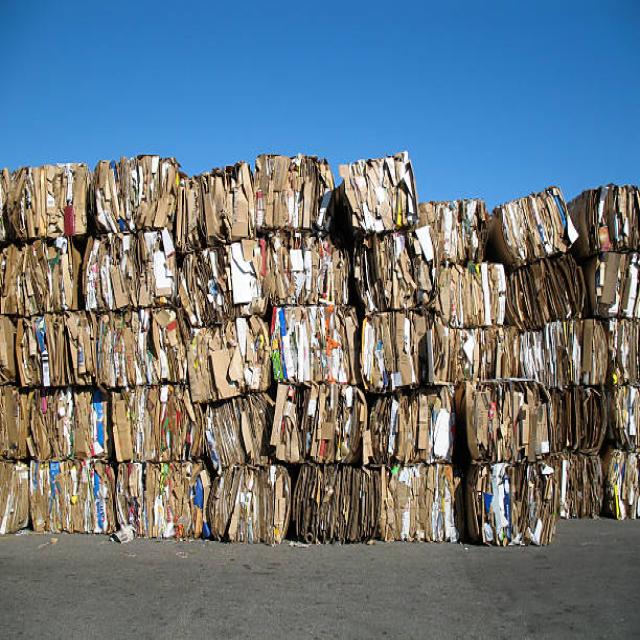cardboard: (1, 132, 630, 542)
